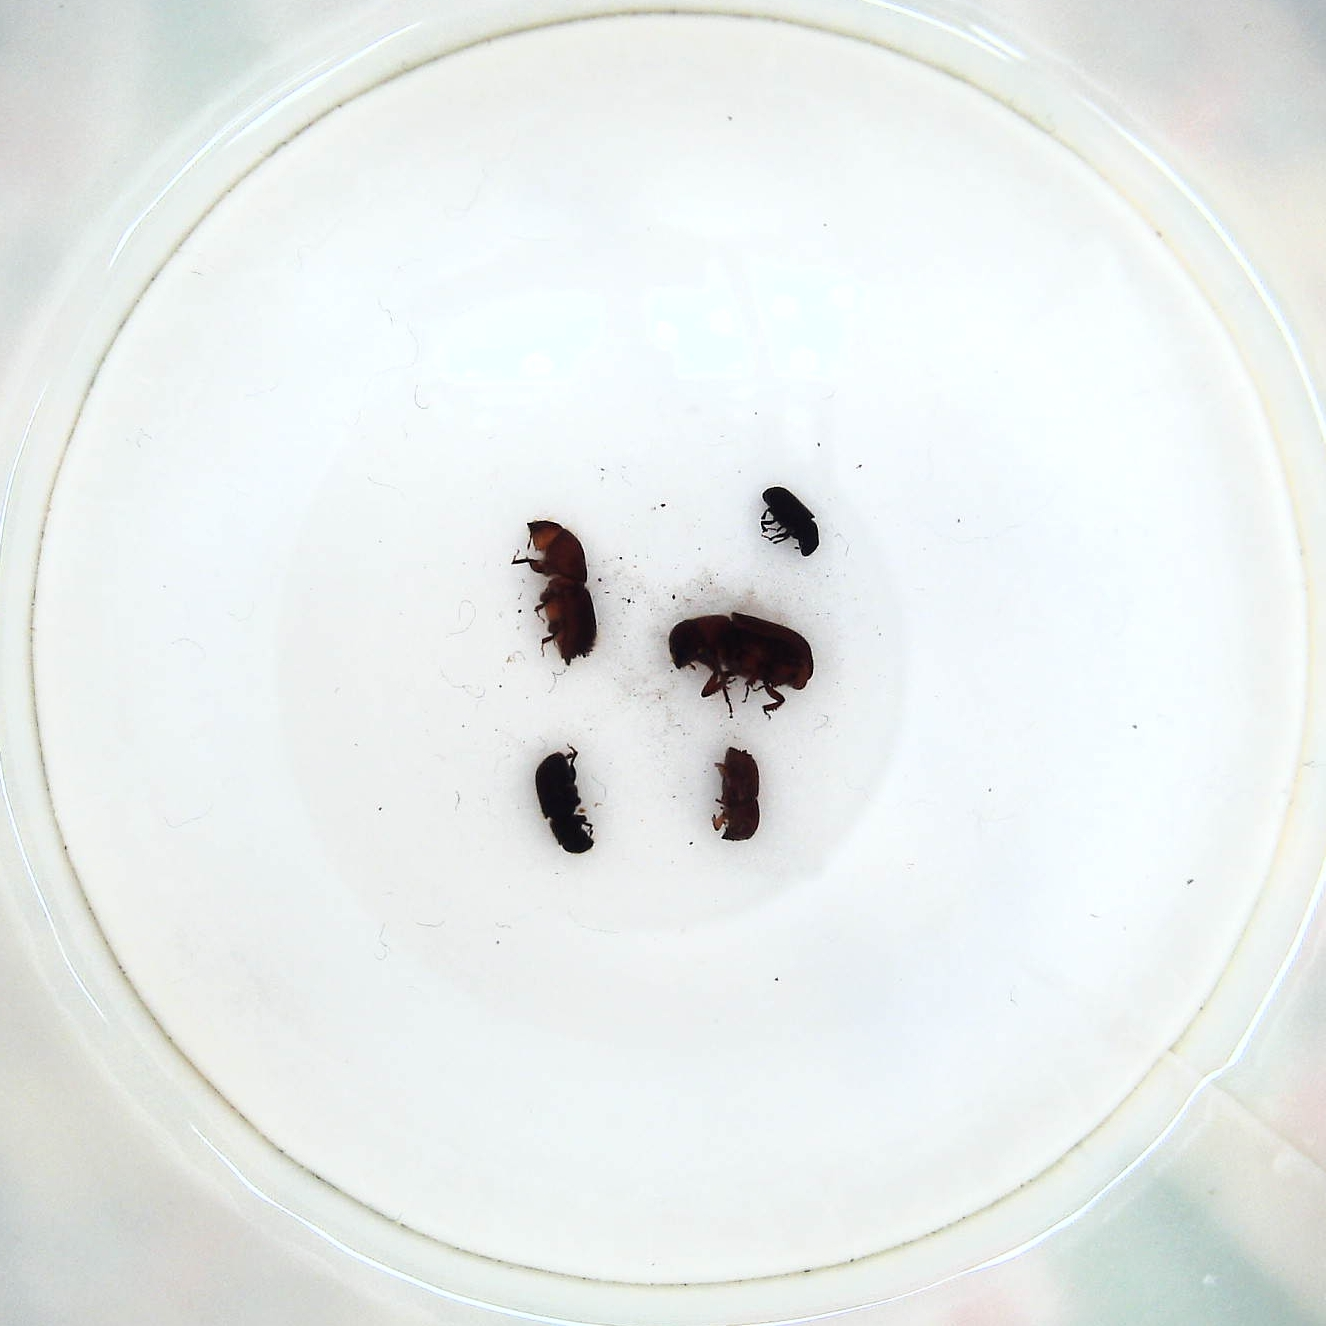Boerner: (506, 512, 603, 669)
Leconte: (662, 613, 816, 725)
armandi: (531, 747, 599, 862)
coleoptera: (753, 481, 826, 563)
linnaeus: (705, 742, 767, 850)
